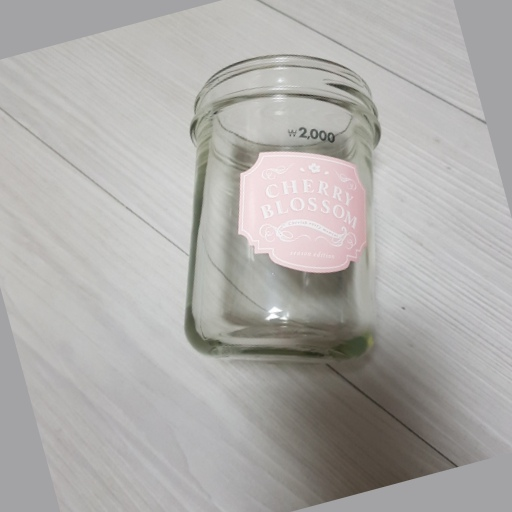Glass_5: (176, 56, 388, 363)
